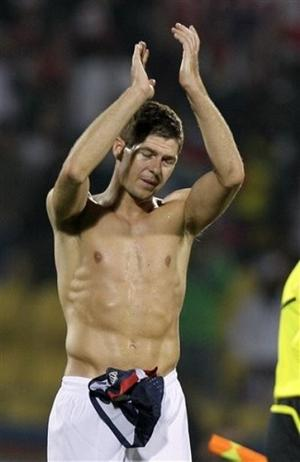person: (44, 24, 246, 462)
